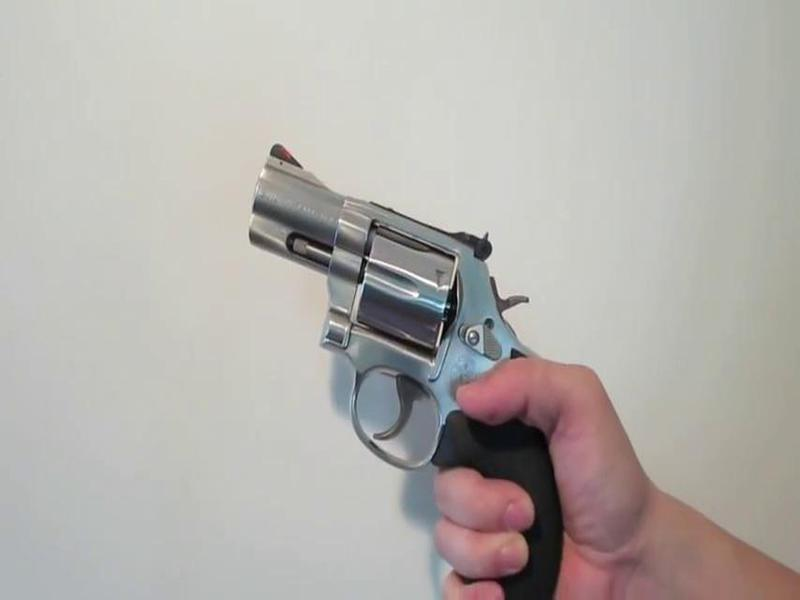Revolver: (243, 132, 607, 597)
